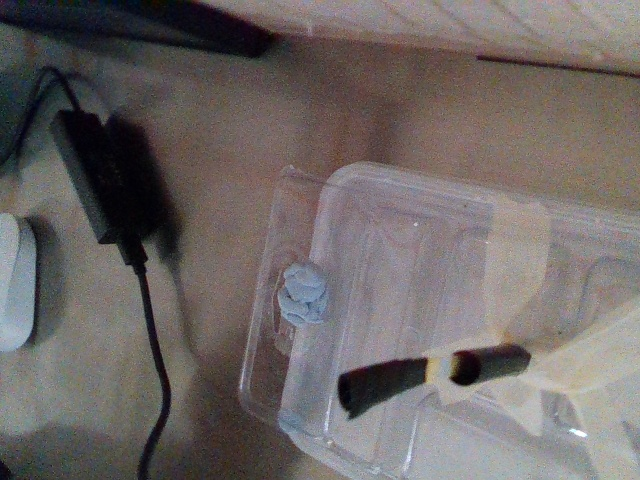test_strip: (336, 353, 457, 419)
